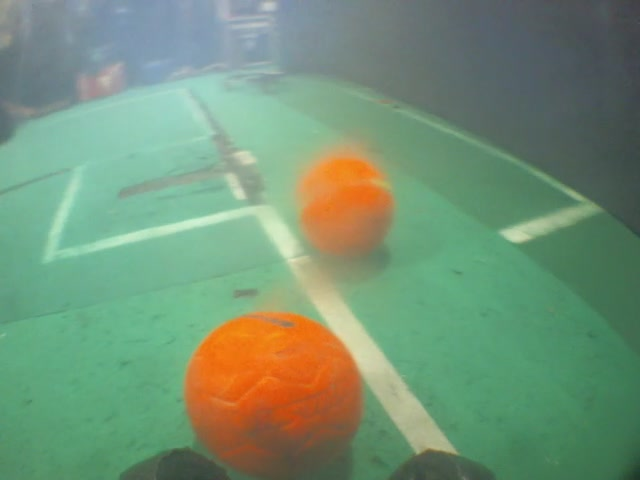ball: (176, 306, 373, 480), (291, 149, 402, 262)
